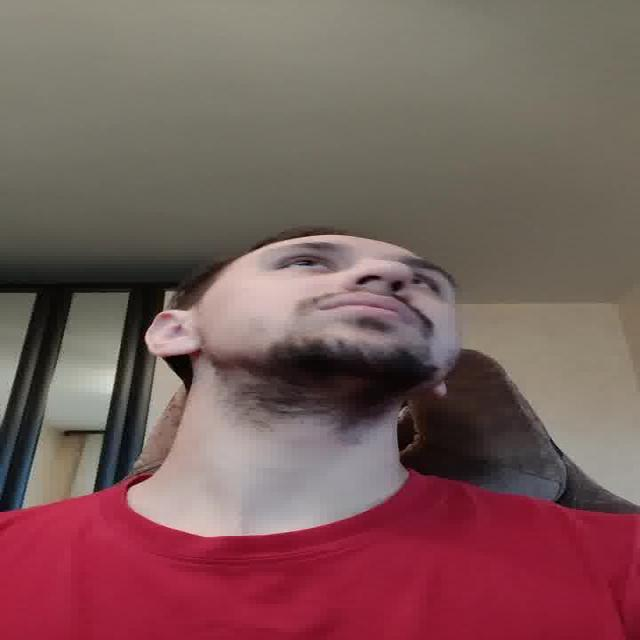earlobe: (143, 310, 199, 356)
